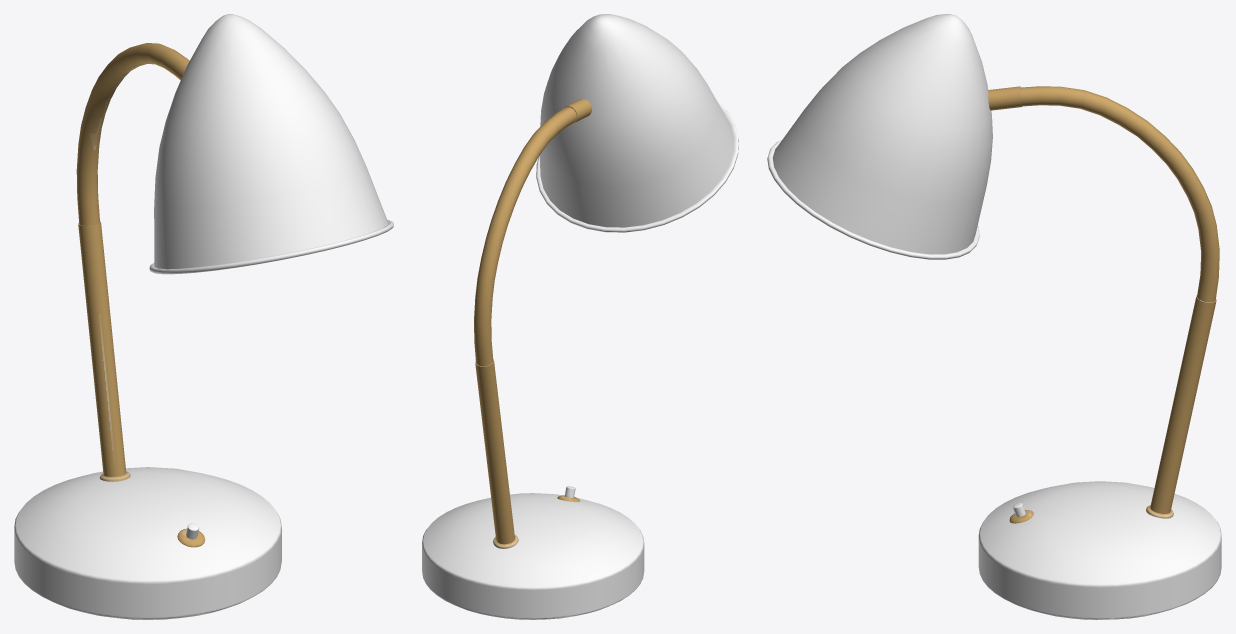
The model's file is 11 - ISNÅLEN LED work lamp - whitebrass-colour.glb.
The picture shows the model from 3 angles, left to right: view 1: azimuth 30°, elevation 25°; view 2: azimuth 150°, elevation 25°; view 3: azimuth 270°, elevation 25°; orthographic projection. The views are drawn at different scales.
Parts seen in each view (by area): view 1: Mesh_0; view 2: Mesh_0; view 3: Mesh_0.
Boxes of the visible parts, x1,y1,x2,y2 form: Mesh_0: [14, 14, 393, 619]; Mesh_0: [422, 14, 738, 619]; Mesh_0: [767, 14, 1221, 619].
Bounding box in the file's own units: 0.14 × 0.3525 × 0.2618.
1 material, 1 textured.
